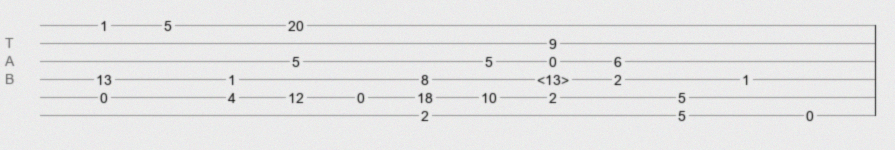0: (100, 90, 108, 100), (357, 90, 365, 100), (549, 54, 557, 64), (806, 108, 814, 118)
1: (100, 18, 108, 28), (228, 72, 236, 82), (742, 72, 750, 82)
10: (481, 90, 497, 100)
12: (288, 90, 304, 100)
13: (96, 72, 112, 82)
18: (417, 90, 433, 100)
2: (421, 108, 429, 118), (549, 90, 557, 100), (614, 72, 622, 82)
20: (288, 18, 304, 28)
4: (228, 90, 236, 100)
5: (164, 18, 172, 28), (292, 54, 300, 64), (485, 54, 493, 64), (678, 90, 686, 100), (678, 108, 686, 118)
6: (614, 54, 622, 64)
8: (421, 72, 429, 82)
9: (549, 36, 557, 46)
harmonic: (537, 72, 569, 82)
